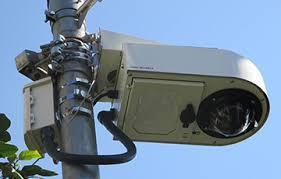maru: (92, 33, 281, 158)
